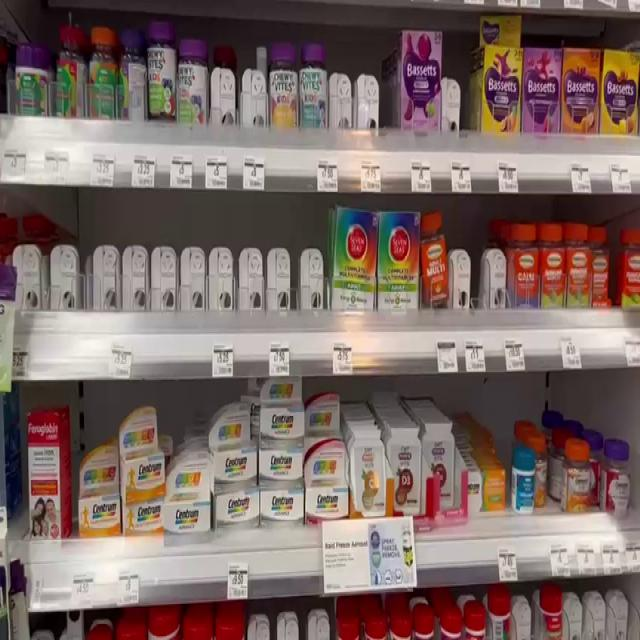Other: (26, 412, 70, 551), (373, 208, 426, 323), (331, 204, 380, 324), (393, 29, 449, 130), (81, 432, 122, 539), (253, 370, 309, 446), (520, 44, 564, 138), (115, 419, 166, 500), (261, 41, 301, 143), (557, 45, 603, 133), (84, 25, 120, 136), (482, 48, 524, 140), (146, 16, 179, 132), (419, 420, 461, 510), (416, 208, 453, 310), (601, 42, 639, 139), (14, 40, 57, 125), (174, 33, 211, 131), (208, 412, 256, 482), (384, 424, 422, 512), (57, 27, 90, 126), (534, 219, 567, 318), (306, 449, 348, 526), (345, 417, 383, 502), (210, 40, 241, 141), (116, 24, 145, 131), (560, 435, 595, 523), (508, 218, 542, 308), (301, 37, 332, 134), (601, 435, 635, 523), (563, 217, 589, 322), (118, 493, 169, 545), (586, 221, 613, 315), (463, 463, 507, 519), (258, 446, 305, 490), (162, 493, 219, 528), (215, 488, 266, 527), (510, 446, 536, 521), (618, 227, 640, 314), (260, 487, 306, 525), (541, 587, 570, 640), (530, 430, 549, 509), (488, 584, 513, 640)
